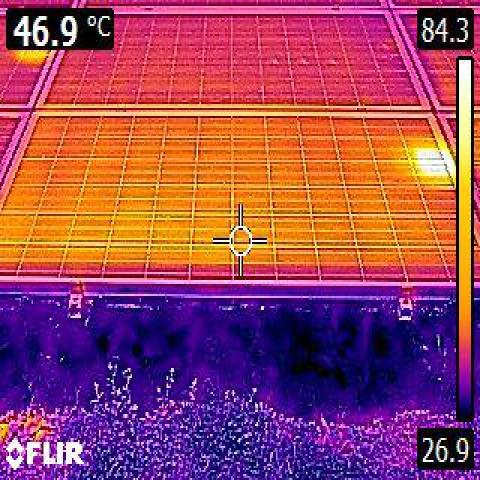fault: (420, 144, 442, 177)
